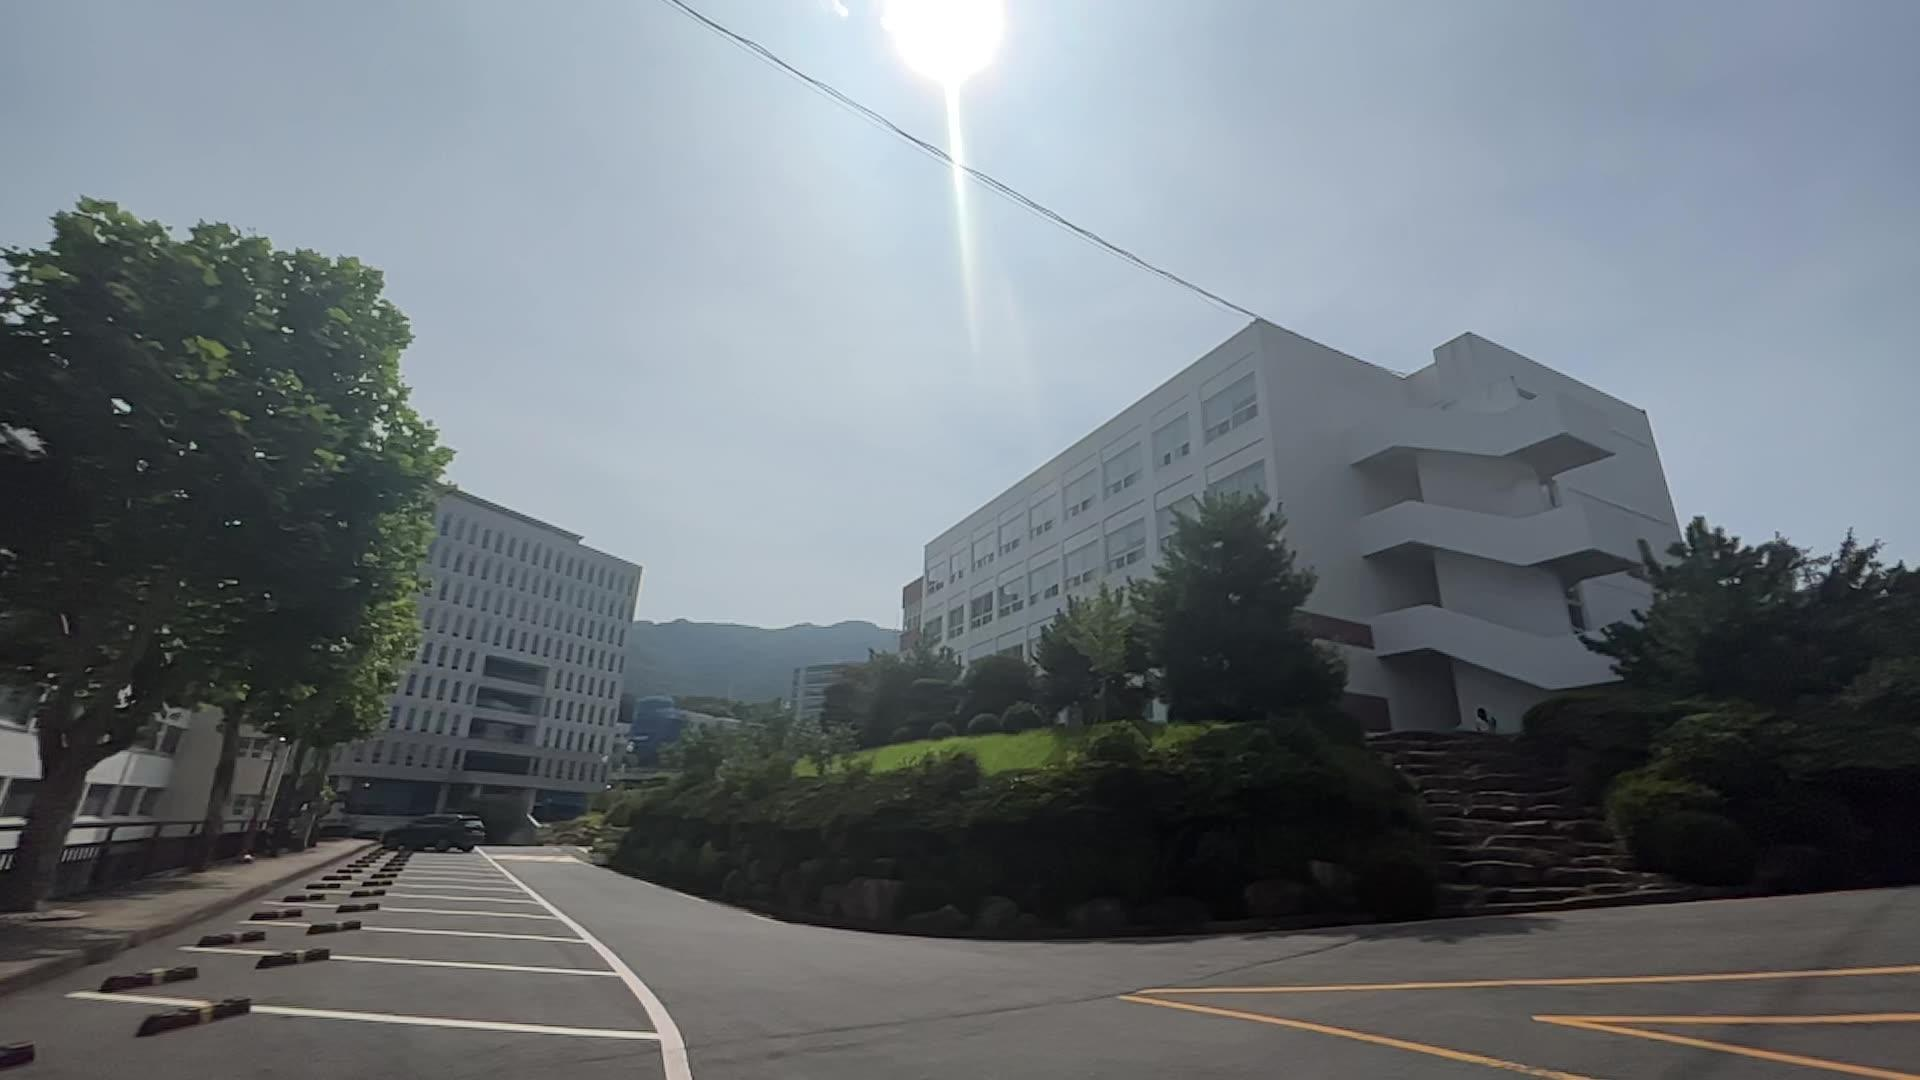building: (891, 318, 1685, 634), (401, 497, 633, 829)
